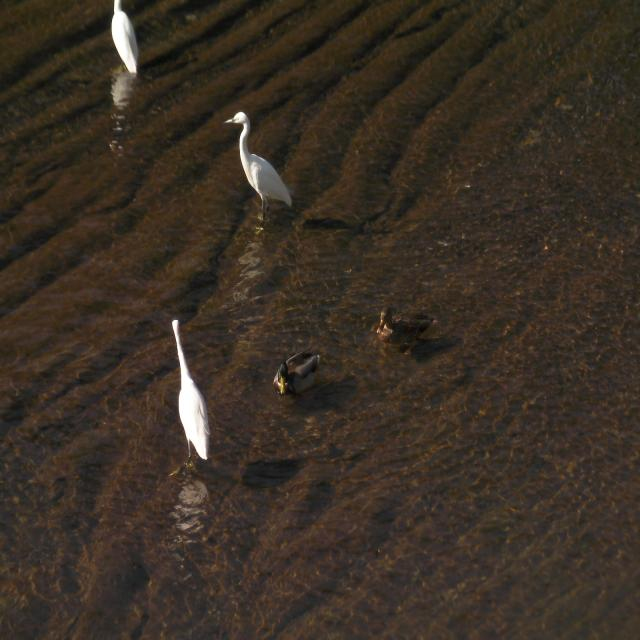bird: (218, 114, 300, 225), (153, 321, 215, 467), (272, 347, 324, 402), (110, 2, 145, 82), (373, 304, 399, 346)
